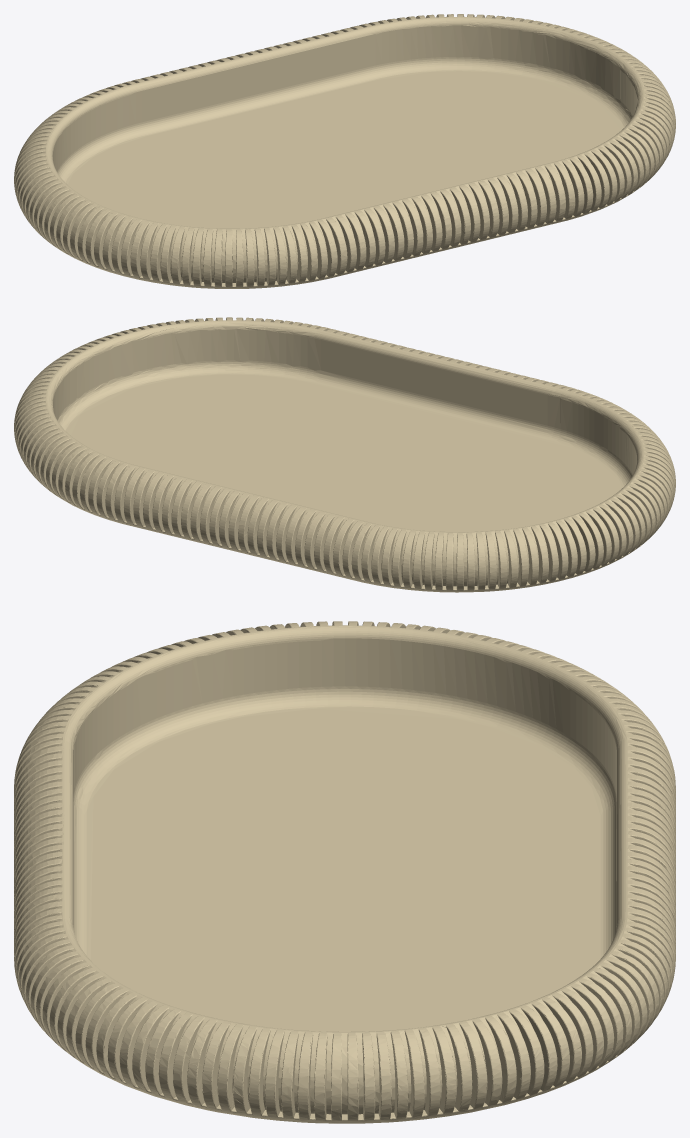
The model's file is bandeja-mediana.glb.
The picture shows the model from 3 angles, top to bottom: view 1: azimuth 30°, elevation 25°; view 2: azimuth 150°, elevation 25°; view 3: azimuth 270°, elevation 25°; orthographic projection. The views are drawn at different scales.
Parts seen in each view (by area): view 1: color_1; view 2: color_1; view 3: color_1.
Part boxes in pixels (<box>): color_1: <box>14,14,675,288</box>; color_1: <box>14,317,675,592</box>; color_1: <box>14,621,675,1123</box>.
Size of the model in its own units: 0.197 by 0.016 by 0.123.
